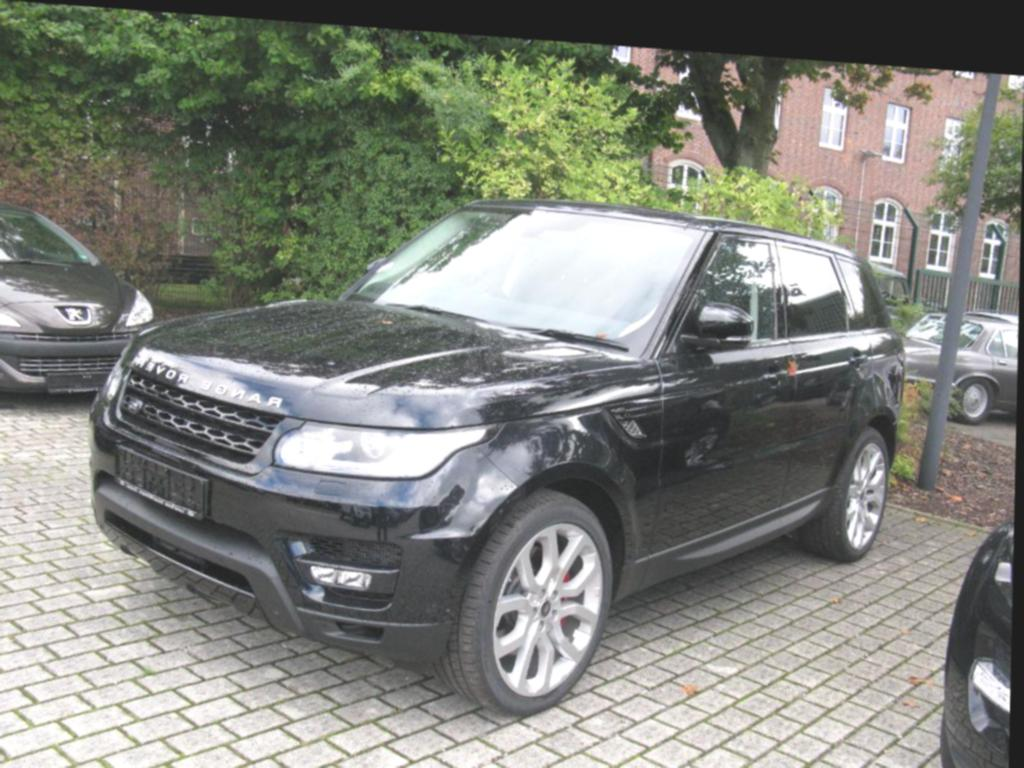License_Plate: (123, 441, 209, 527)
